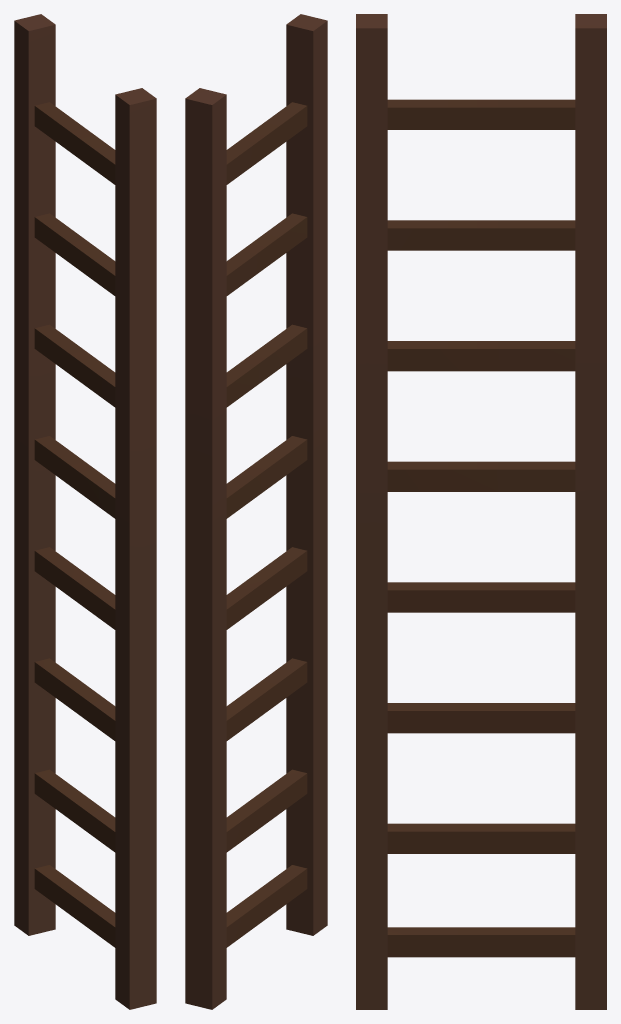
The model's file is FireEscape_E_3.fbx.
3 views of the same model, side by side, from view 1: azimuth 30°, elevation 25°; view 2: azimuth 150°, elevation 25°; view 3: azimuth 270°, elevation 25° (orthographic). The views are drawn at different scales.
Visible parts, largest first — view 1: FireEscape_E_3; view 2: FireEscape_E_3; view 3: FireEscape_E_3.
Part boxes in pixels (x1=…): FireEscape_E_3: x1=14, y1=14, x2=156, y2=1009; FireEscape_E_3: x1=185, y1=14, x2=327, y2=1009; FireEscape_E_3: x1=356, y1=14, x2=606, y2=1009.
Size of the model in its own units: 9.26 by 296 by 68.63.
